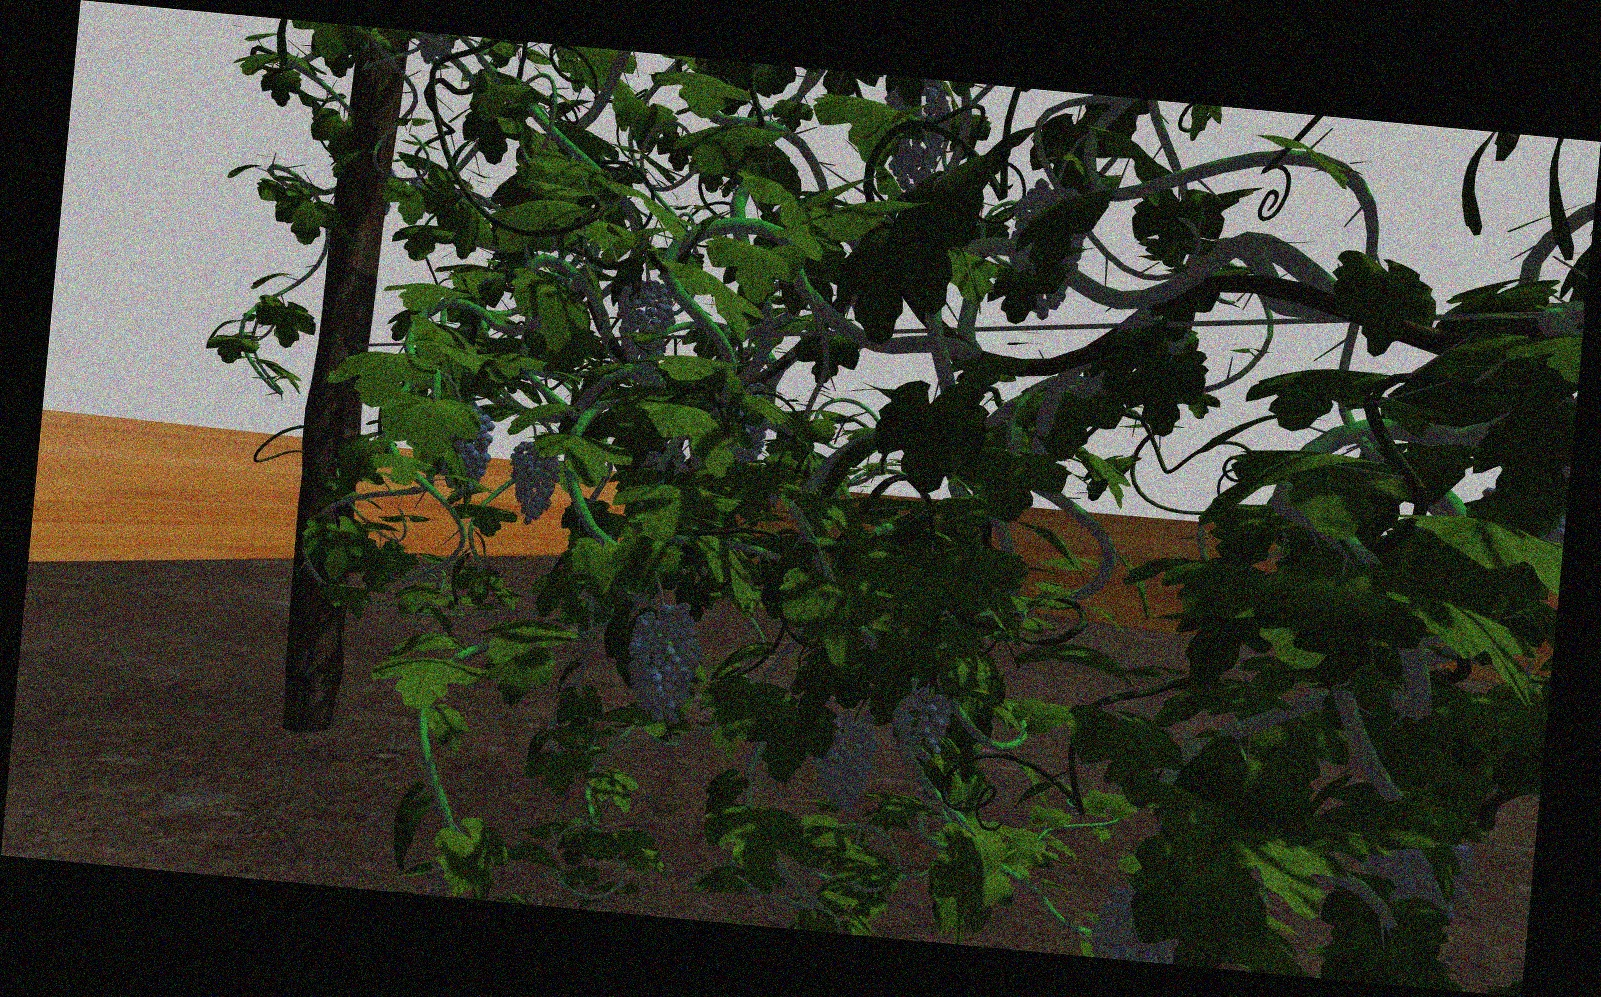grape: (625, 601, 699, 725), (813, 713, 880, 813), (618, 277, 679, 361), (891, 683, 953, 764), (441, 408, 494, 494), (509, 438, 559, 525)
